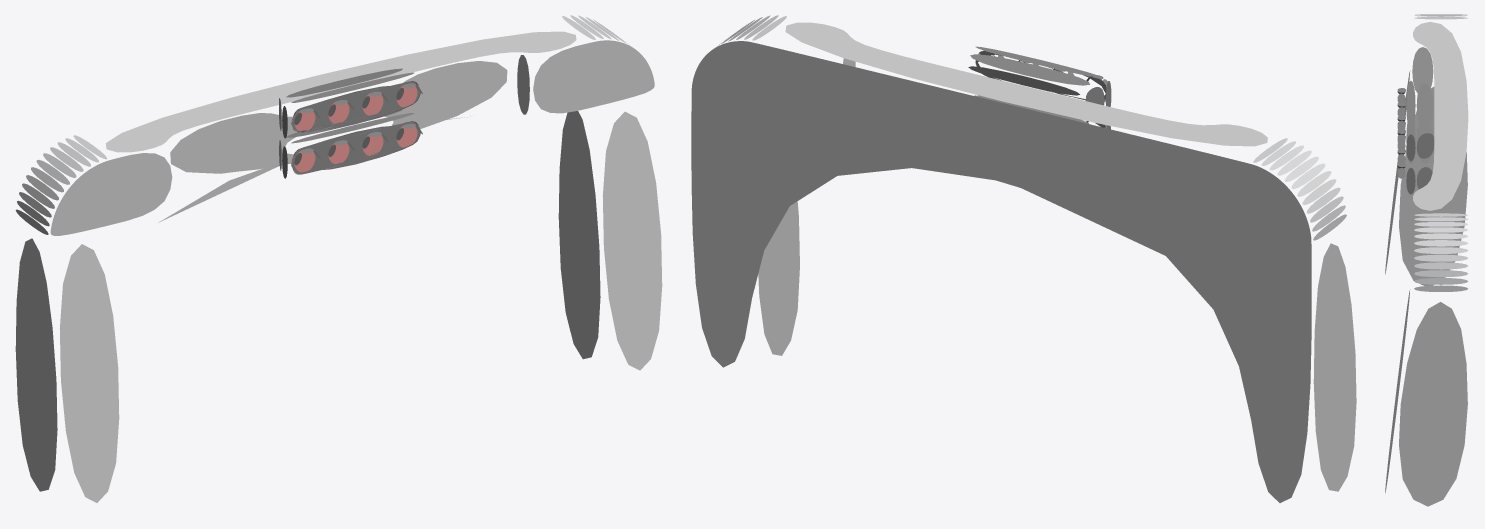
File: gantry_overhead_lights.glb
The picture shows the model from 3 angles, left to right: view 1: azimuth 30°, elevation 25°; view 2: azimuth 150°, elevation 25°; view 3: azimuth 270°, elevation 25°; orthographic projection. The views are drawn at different scales.
Visible parts, largest first — view 1: gantry_overhead_lights; view 2: gantry_overhead_lights; view 3: gantry_overhead_lights.
Boxes of the visible parts, <box> form: gantry_overhead_lights: <box>15,15,662,502</box>; gantry_overhead_lights: <box>691,15,1356,502</box>; gantry_overhead_lights: <box>1385,14,1468,506</box>.
Bounding box in the file's own units: 1.26 × 0.6939 × 0.1875.
